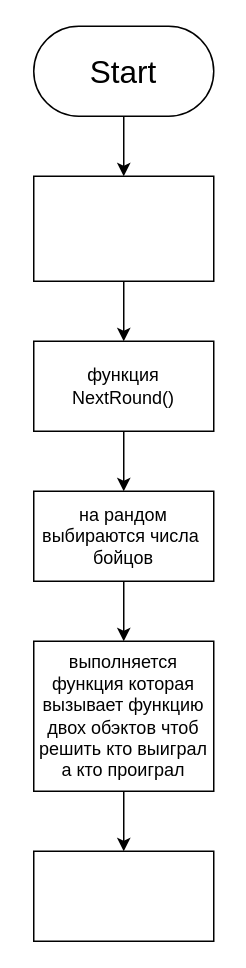
Some shapes in this 246 by 968 pixel diagram are drawn without their labels. The box of each missing label's shape, as (x1, y1, x2, y2) in pixels:
вывод в консоль: (32, 850, 214, 941)
создание наблюдателей riskyPlayer и conservativePlayer: (32, 175, 214, 281)
